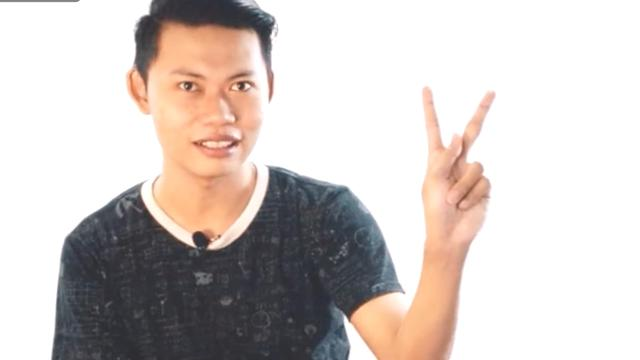K: (416, 82, 499, 252)
